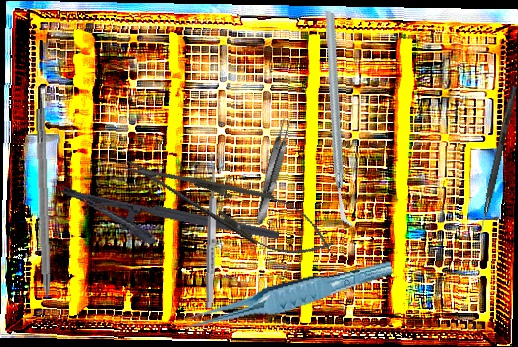Chopper: (257, 10, 423, 228)
Hook Surgical: (475, 85, 518, 245), (32, 108, 54, 325)
Needle Holder: (116, 139, 342, 271), (53, 184, 280, 271)
Surgical Spoon: (204, 152, 220, 309)
Tissue Forceps: (176, 258, 397, 333), (251, 115, 295, 228)
